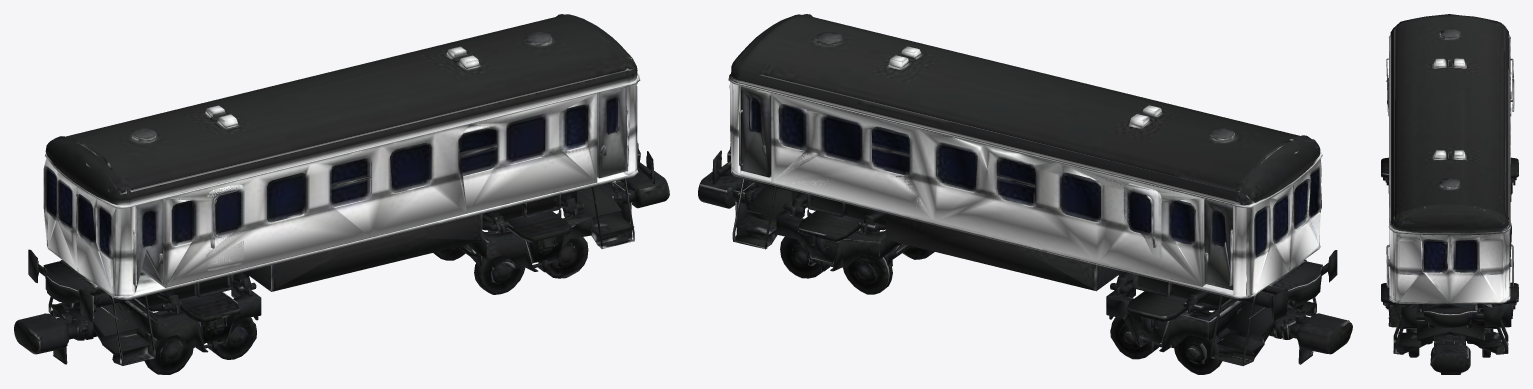
The model's file is train_coach.glb.
3 renders of one model, left to right at view 1: azimuth 30°, elevation 25°; view 2: azimuth 150°, elevation 25°; view 3: azimuth 270°, elevation 25°, orthographic. The views are drawn at different scales.
Size of the model in its own units: 0.9575 by 0.3267 by 0.2334.
Materials: 1 (1 with a texture image).
